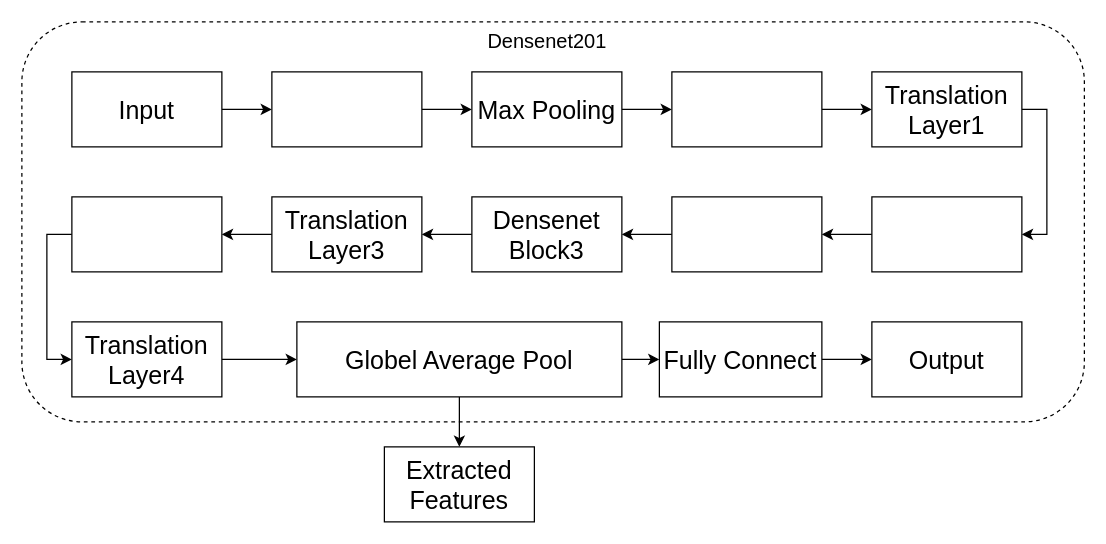
The diagram is 1106 pixels wide and 544 high, and some of its shapes have lost their labels. The shapes that lost their labels are listed below. From the top down, each one's centre as x and y in pixels, then its label:
At [346,109]: "Conv".
At [746,109]: "Densenet Block1".
At [146,234]: "Densenet Block4".
At [746,234]: "Translation Layer2".
At [946,234]: "Densenet Block2".
